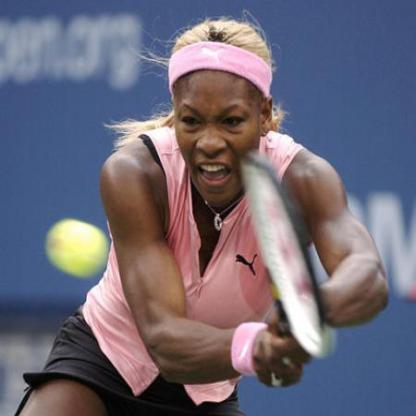face: (176, 22, 264, 209)
